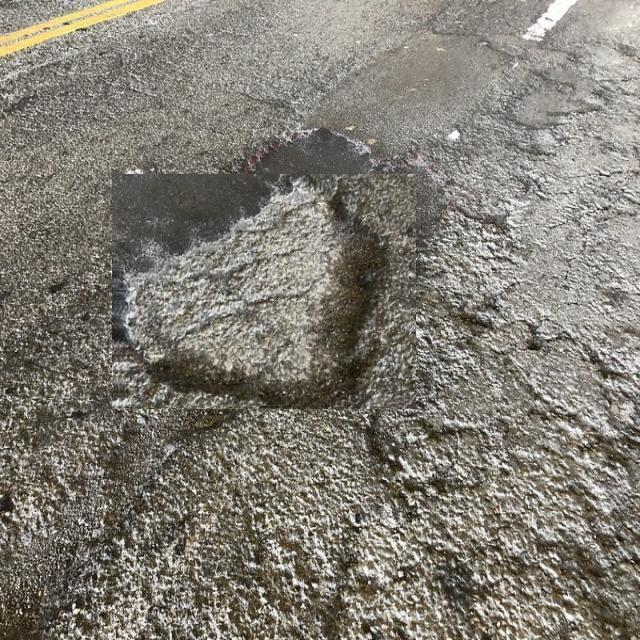Pothole: (112, 174, 416, 409)
